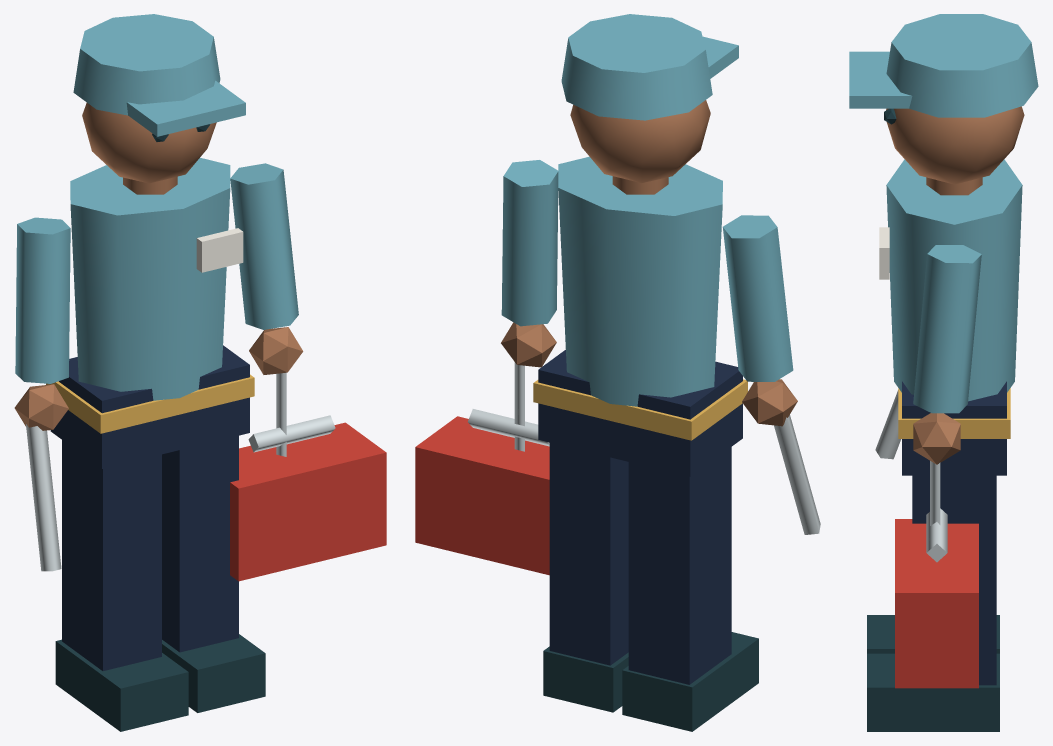
The model's file is staff_mechanic.glb.
3 views of the same model, side by side, from view 1: azimuth 30°, elevation 25°; view 2: azimuth 150°, elevation 25°; view 3: azimuth 270°, elevation 25° (orthographic). The views are drawn at different scales.
Parts seen in each view (by area): view 1: staff_mechanic; view 2: staff_mechanic; view 3: staff_mechanic.
Boxes of the visible parts, <box> form: staff_mechanic: <box>14,14,386,731</box>; staff_mechanic: <box>415,14,820,731</box>; staff_mechanic: <box>849,14,1038,731</box>.
Size of the model in its own units: 1.18 by 2.06 by 0.54.
